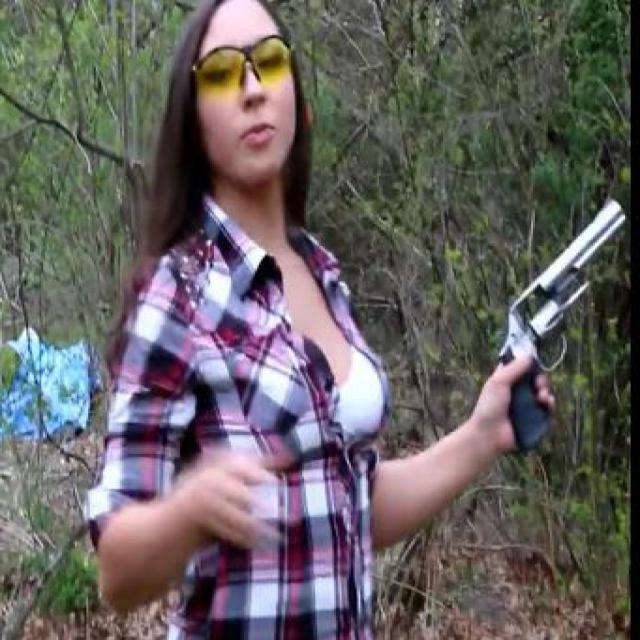weapon: (495, 196, 626, 456)
